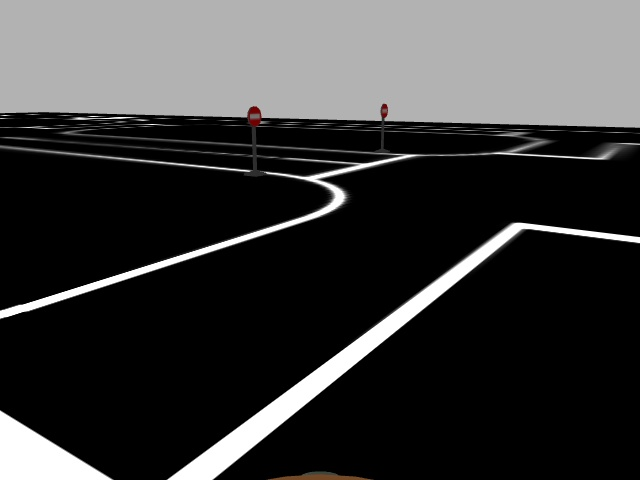prohibited: (247, 105, 262, 129), (380, 102, 389, 119)
